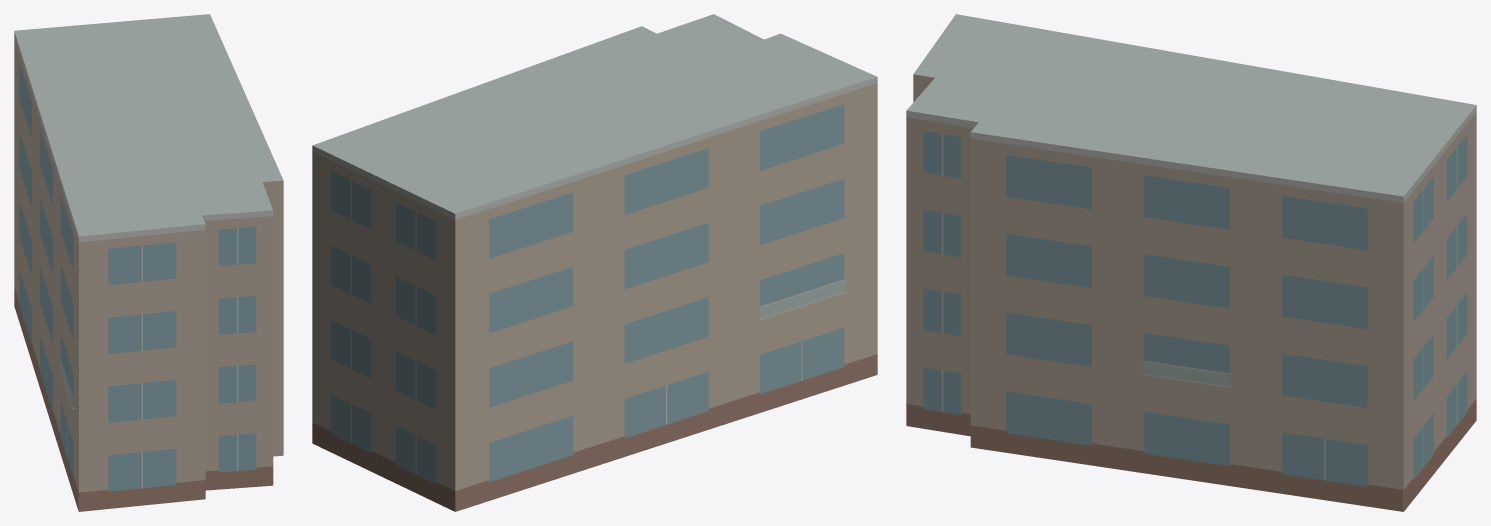
The model's file is survey-upis-32764586.glb.
3 renders of one model, left to right at view 1: azimuth 30°, elevation 25°; view 2: azimuth 150°, elevation 25°; view 3: azimuth 270°, elevation 25°, orthographic. The views are drawn at different scales.
Parts seen in each view (by area): view 1: survey-upis-32764586.tmp; view 2: survey-upis-32764586.tmp; view 3: survey-upis-32764586.tmp.
Boxes of the visible parts, x1,y1,x2,y2 form: survey-upis-32764586.tmp: (14,14,283,511); survey-upis-32764586.tmp: (312,14,877,511); survey-upis-32764586.tmp: (906,14,1476,511).
Size of the model in its own units: 14.66 by 11.8 by 19.35.
